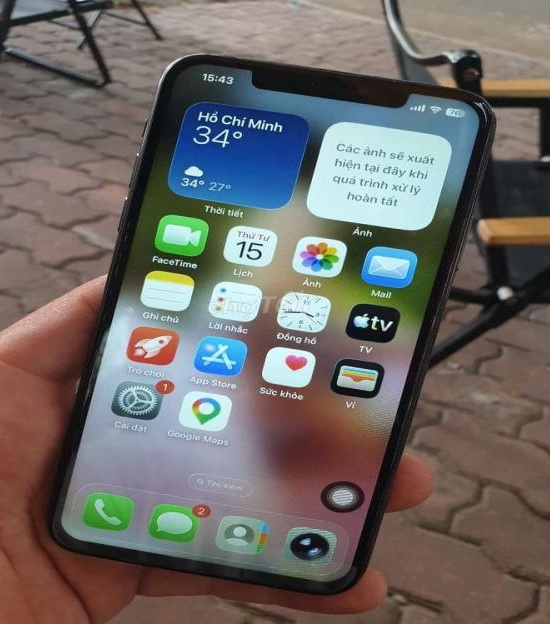scratch: (371, 68, 406, 91)
